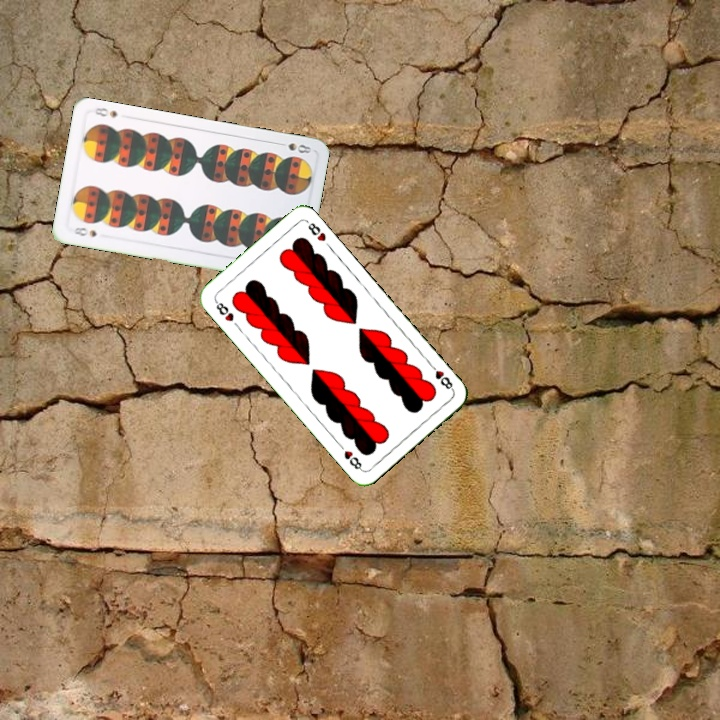H8: (425, 360, 456, 393), (211, 296, 236, 324)
S8: (273, 138, 313, 156), (68, 223, 99, 239)
